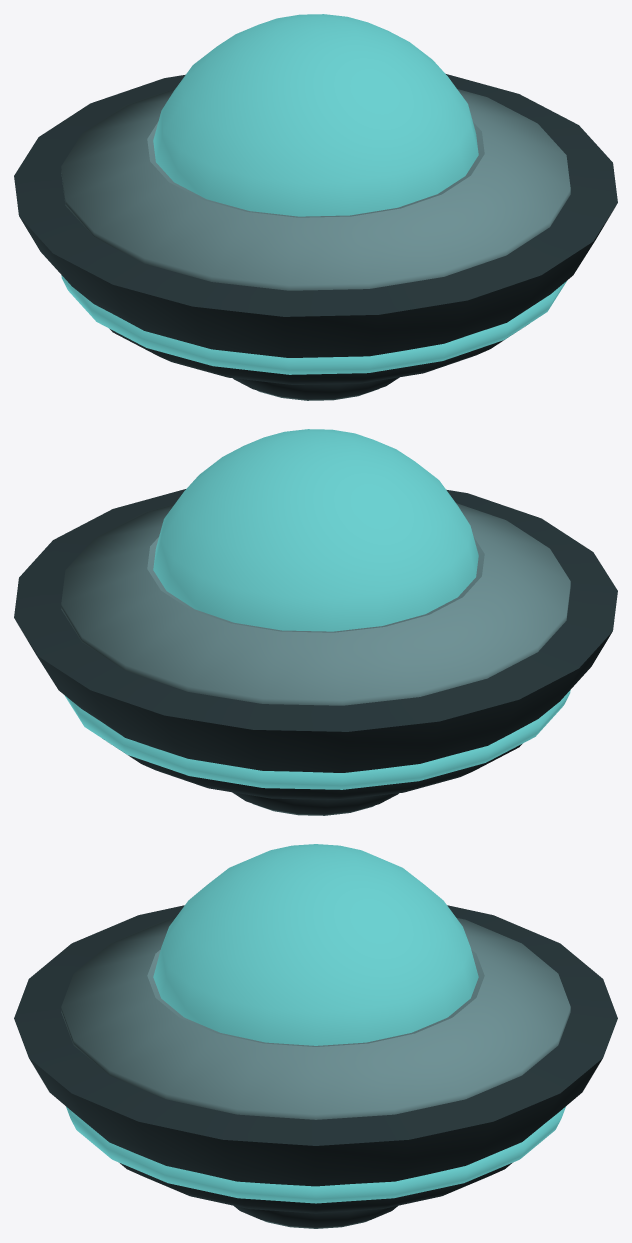
Rendered from CA_131_cosmodrome_auxiliary_light_big.glb.
3 renders of one model, top to bottom at view 1: azimuth 30°, elevation 25°; view 2: azimuth 150°, elevation 25°; view 3: azimuth 270°, elevation 25°, orthographic.
Parts seen in each view (by area): view 1: structure, lights; view 2: structure, lights; view 3: structure, lights.
Boxes of the visible parts, left/top/right/bottom form: structure: left=14, top=74, right=617, bottom=400; lights: left=61, top=14, right=566, bottom=374; structure: left=14, top=489, right=617, bottom=815; lights: left=64, top=429, right=570, bottom=789; structure: left=14, top=905, right=617, bottom=1228; lights: left=66, top=844, right=565, bottom=1203.
Bounding box in the file's own units: 1.82 × 1.12 × 1.82.
